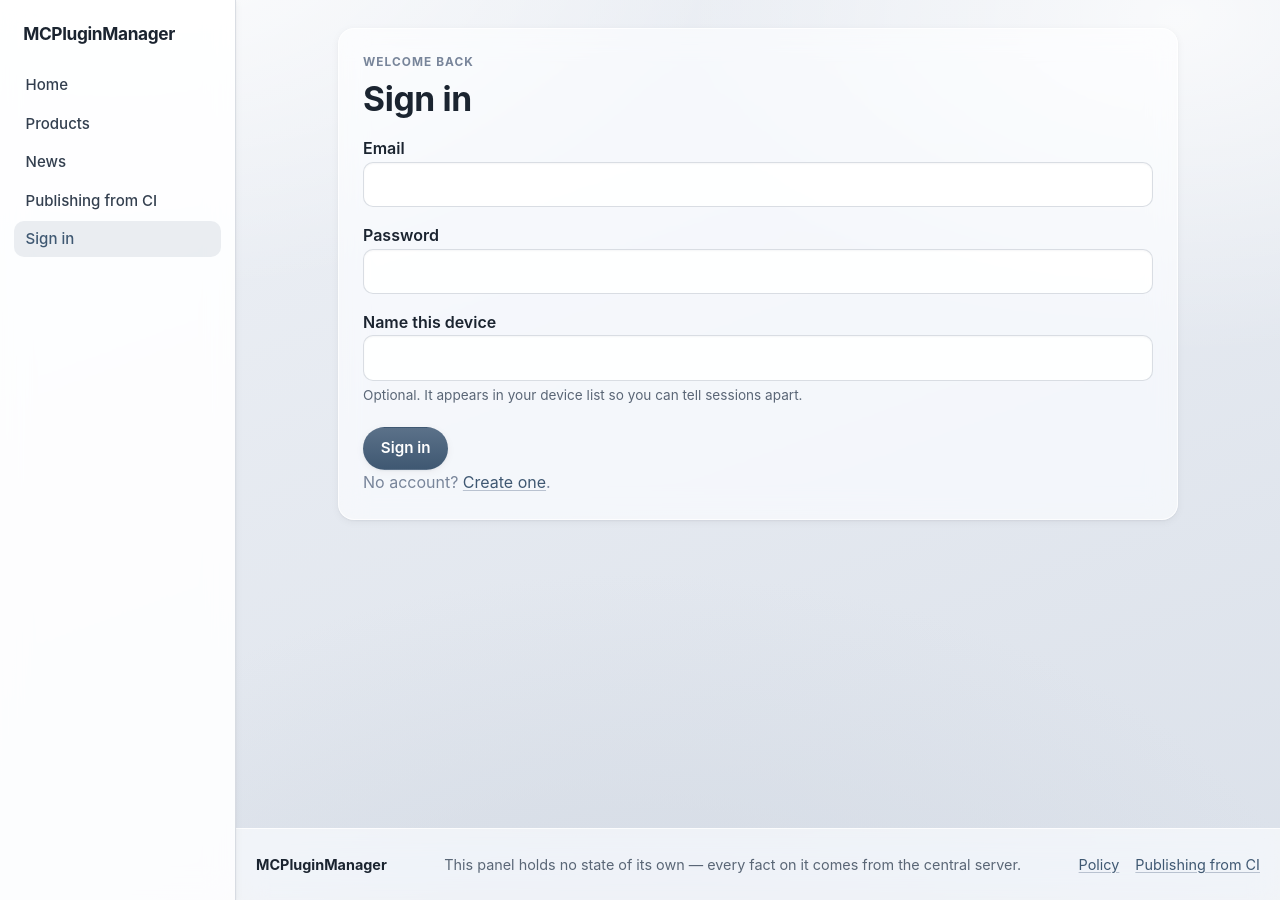
Scenario: signing in › shows the server’s message when the credentials are wrong
Expected: the heading "Sign in" is shown, [363, 78, 472, 118]
Type "alice@example.com" into the field labelled "Email" at (758, 184), box [363, 162, 1153, 207]
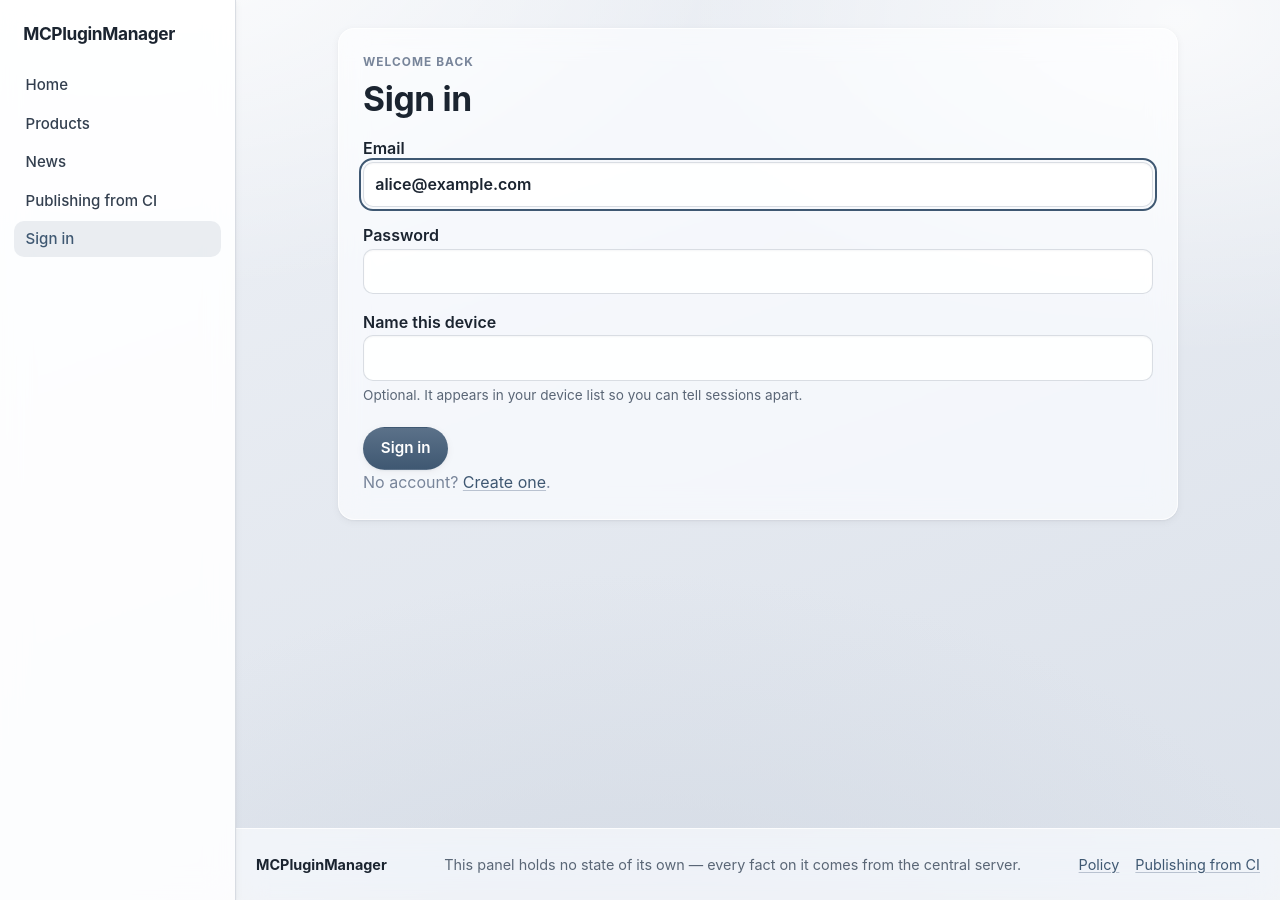
Type "wrong" into the password field labelled "Password" at (758, 271), box [363, 249, 1153, 294]
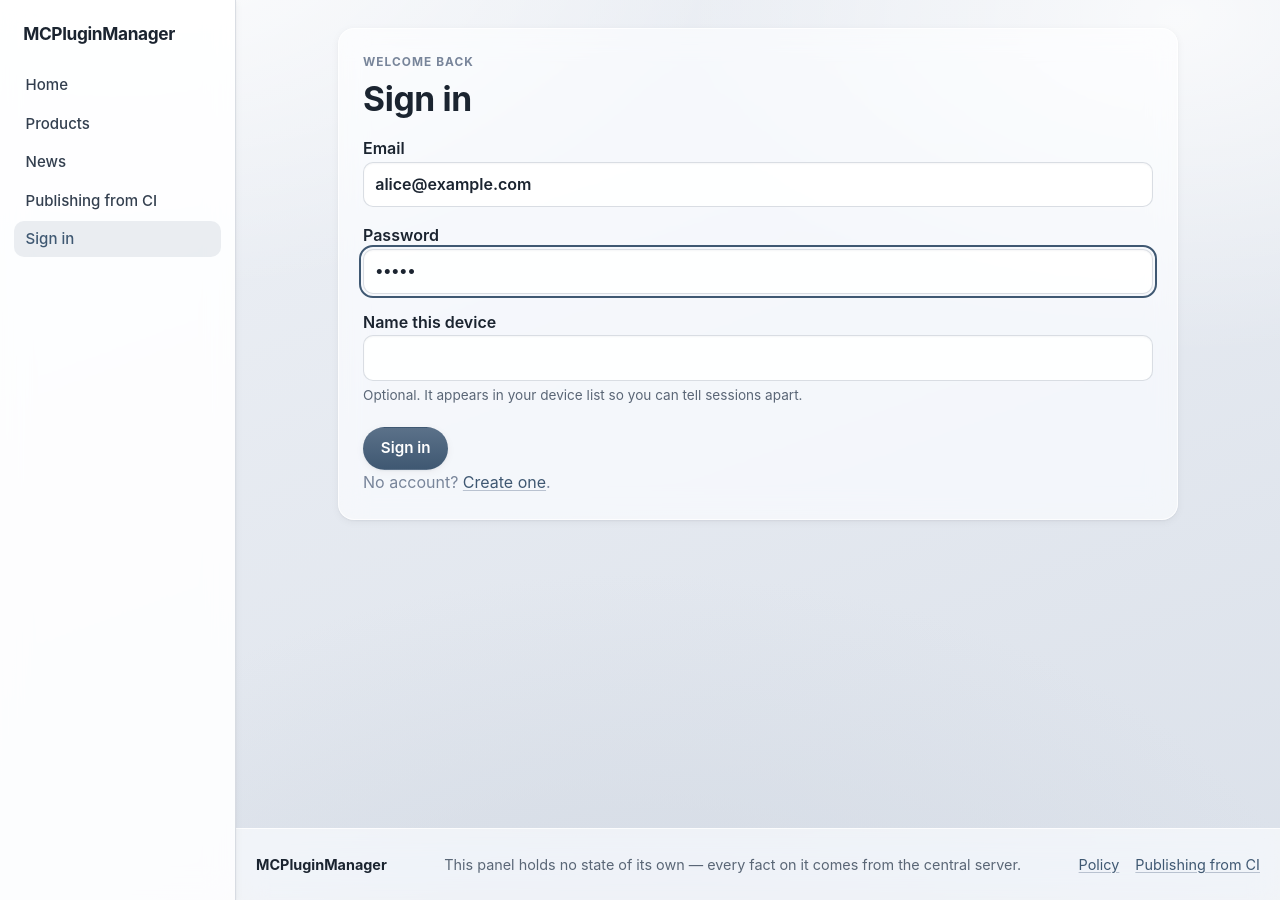
Click the button "Sign in" at (406, 448), box [363, 427, 448, 470]
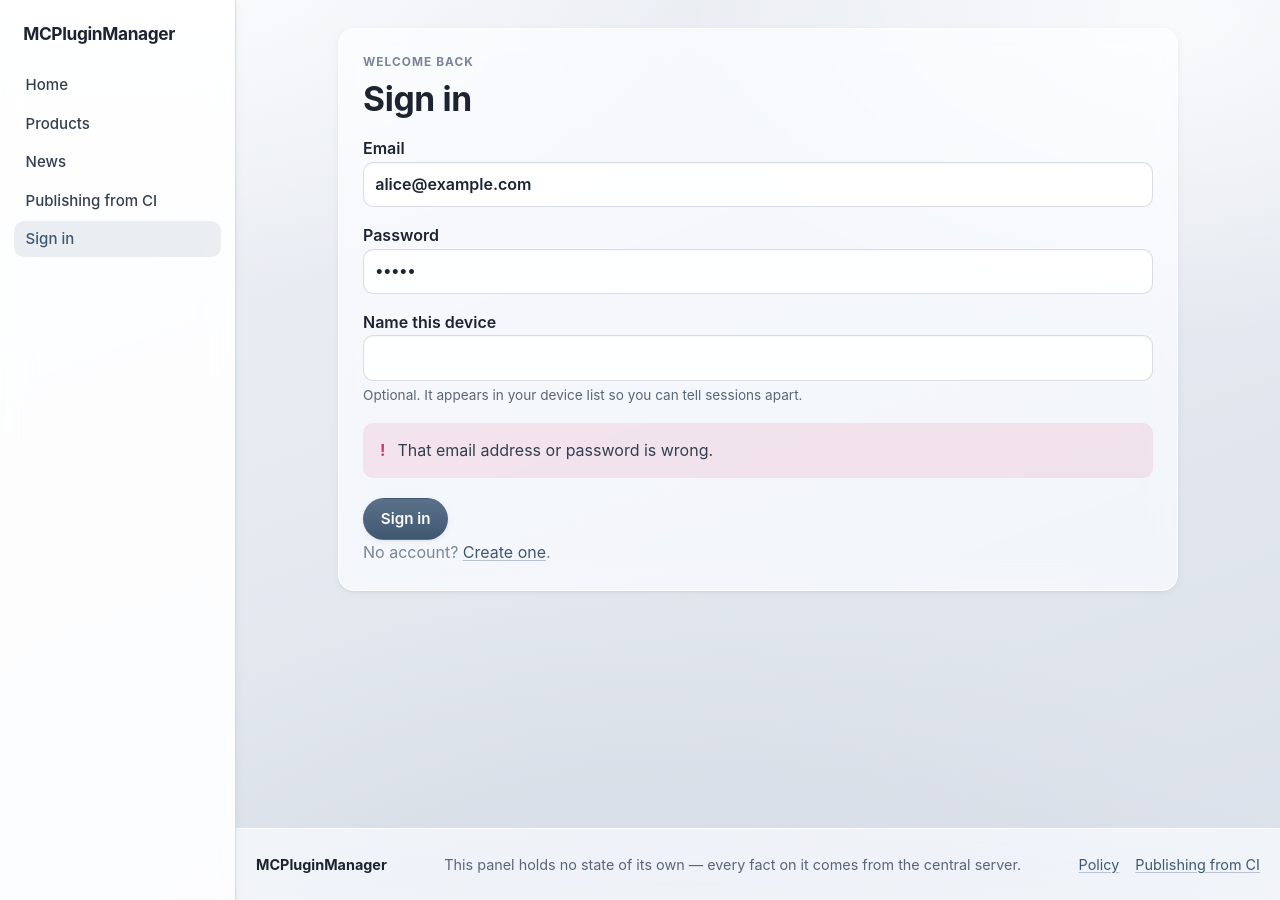
Expected: the message shows "That email address or password is wrong.", [397, 440, 713, 460]
